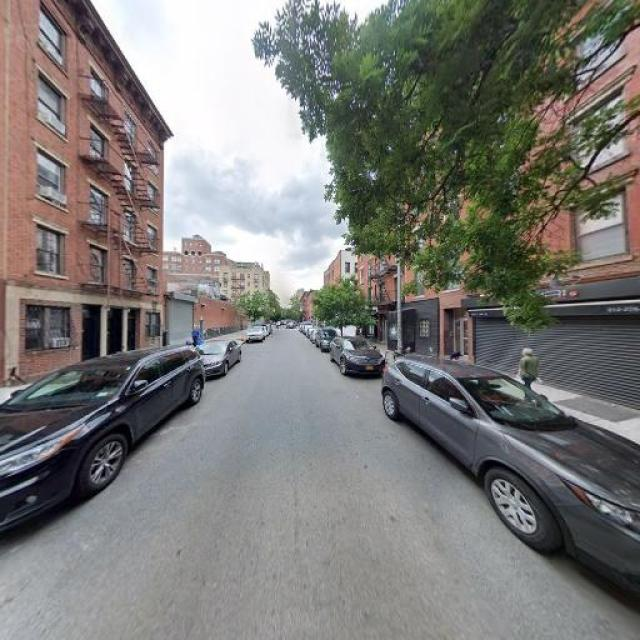Building: (470, 1, 640, 407), (9, 1, 158, 378)
